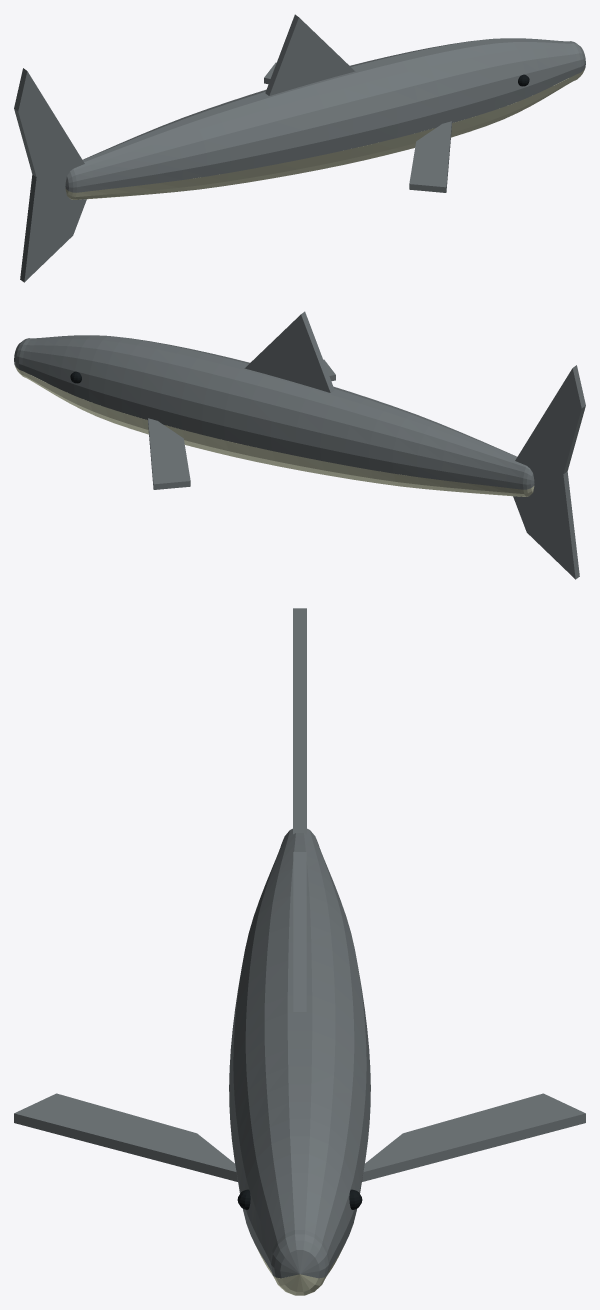
Rendered from mako-shark.dae.
The picture shows the model from 3 angles, top to bottom: view 1: azimuth 30°, elevation 25°; view 2: azimuth 150°, elevation 25°; view 3: azimuth 270°, elevation 25°; orthographic projection. The views are drawn at different scales.
Parts seen in each view (by area): view 1: part2-node, part1-node; view 2: part2-node, part1-node; view 3: part2-node, part1-node.
Part boxes in pixels (x1=…): part2-node: x1=14, y1=14, x2=585, y2=282; part1-node: x1=65, y1=68, x2=585, y2=199; part2-node: x1=14, y1=311, x2=585, y2=579; part1-node: x1=14, y1=365, x2=534, y2=496; part2-node: x1=14, y1=608, x2=585, y2=1278; part1-node: x1=256, y1=1247, x2=343, y2=1295.
Bounding box in the file's own units: 3 × 1.56 × 1.06.
